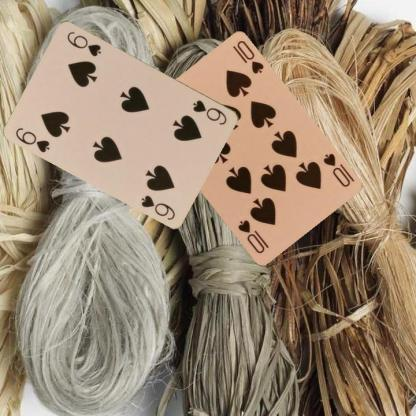10s: (320, 150, 351, 188)
6s: (190, 97, 228, 127), (14, 124, 52, 154)
